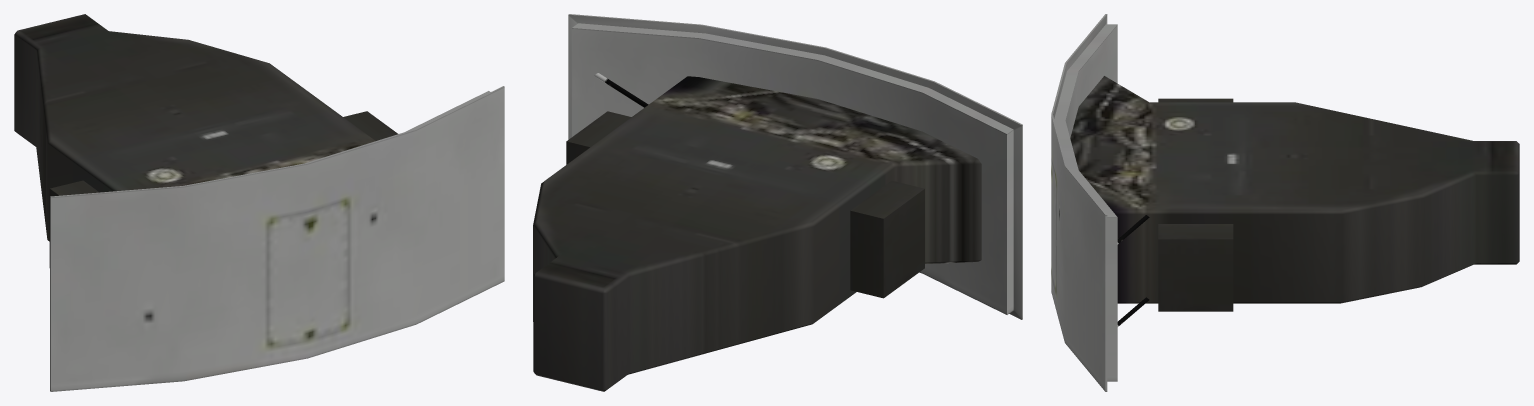
File: wide-field-planetary-camera.glb
3 renders of one model, left to right at view 1: azimuth 30°, elevation 25°; view 2: azimuth 150°, elevation 25°; view 3: azimuth 270°, elevation 25°, orthographic. The views are drawn at different scales.
Parts seen in each view (by area): view 1: hubbletele; view 2: hubbletele; view 3: hubbletele.
Boxes of the visible parts, x1,y1,x2,y2 form: hubbletele: (14, 14, 504, 391); hubbletele: (533, 14, 1022, 391); hubbletele: (1051, 14, 1519, 391).
Size of the model in its own units: 72.13 by 29.6 by 71.05.
1 material, 1 textured.
